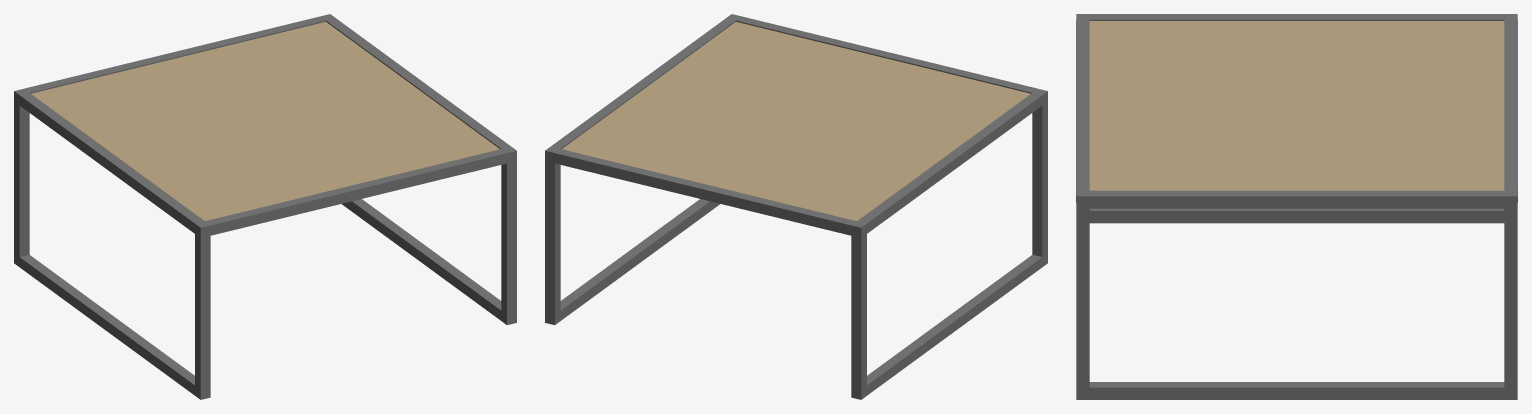
Rendered from CoffeeTable_3.fbx.
3 views of the same model, side by side, from view 1: azimuth 30°, elevation 25°; view 2: azimuth 150°, elevation 25°; view 3: azimuth 270°, elevation 25° (orthographic). The views are drawn at different scales.
Visible parts, largest first — view 1: CoffeeTable3; view 2: CoffeeTable3; view 3: CoffeeTable3.
Boxes of the visible parts, <box> form: CoffeeTable3: <box>14,14,516,399</box>; CoffeeTable3: <box>545,14,1047,399</box>; CoffeeTable3: <box>1076,14,1517,399</box>.
Size of the model in its own units: 288 by 150 by 295.
